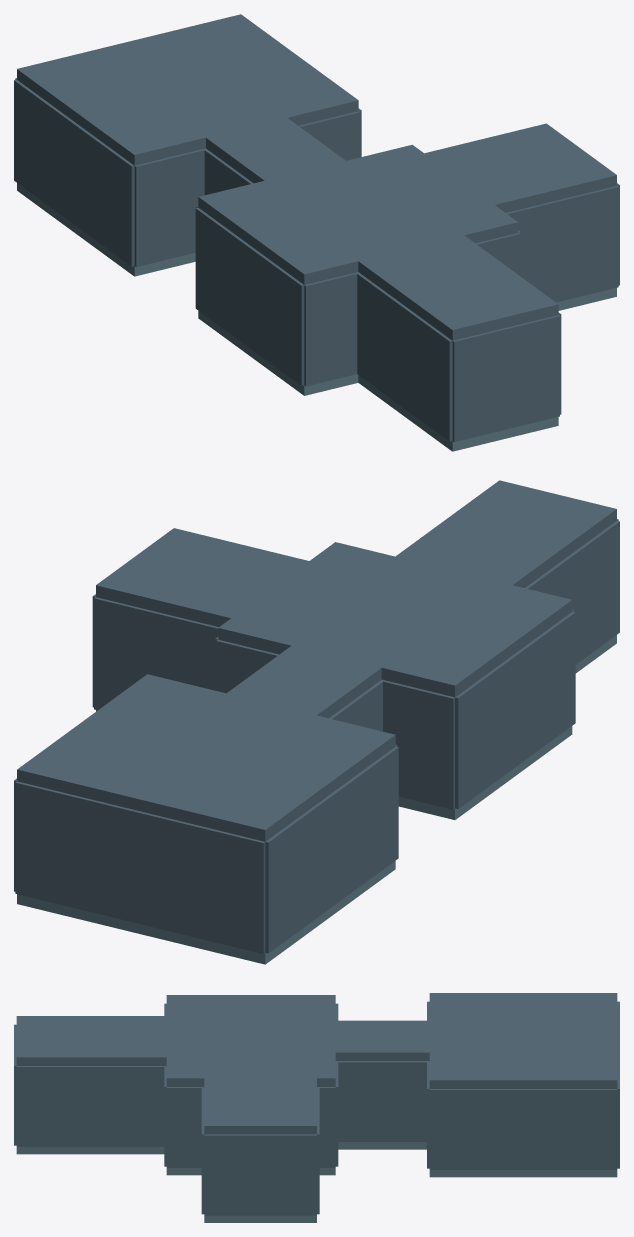
File: old_relay_collision.glb
3 views of the same model, one above another, from view 1: azimuth 30°, elevation 25°; view 2: azimuth 150°, elevation 25°; view 3: azimuth 270°, elevation 25° (orthographic). The views are drawn at different scales.
Visible parts, largest first — view 1: Archive ceiling, Junction ceiling, Archive west wall, Vestibule ceiling, Junction west wall, Vestibule entry wall, Vestibule west wall, Maintenance ceiling, Maintenance near wall, Archive entry shoulder, Junction entry shoulder, Gate passage ceiling (+6 smaller); view 2: Archive ceiling, Junction ceiling, Archive far wall, Archive west wall, Junction west wall, Vestibule ceiling, Maintenance ceiling, Maintenance far wall, Junction gate shoulder, Gate passage ceiling, Vestibule west wall, Archive floor (+3 smaller); view 3: Archive ceiling, Archive east wall, Junction ceiling, Vestibule east wall, Maintenance back wall, Vestibule ceiling, Gate passage east wall, Maintenance ceiling, Gate passage ceiling, Junction east bounds, Archive floor, Junction east return (+9 smaller).
Part boxes in pixels (box(x1,y1,x2,y2)): Archive ceiling: box(17, 14, 358, 165); Junction ceiling: box(198, 144, 518, 284); Archive west wall: box(14, 79, 134, 266); Vestibule ceiling: box(358, 235, 558, 340); Junction west wall: box(195, 207, 304, 385); Vestibule entry wall: box(452, 315, 559, 442); Vestibule west wall: box(357, 273, 452, 441); Maintenance ceiling: box(425, 123, 616, 212); Maintenance near wall: box(506, 186, 618, 302); Archive entry shoulder: box(134, 149, 204, 266); Junction entry shoulder: box(304, 272, 359, 386); Gate passage ceiling: box(206, 118, 345, 183); Archive ceiling: box(17, 674, 395, 841); Junction ceiling: box(218, 542, 572, 697); Archive far wall: box(15, 781, 265, 953); Archive west wall: box(265, 746, 398, 953); Junction west wall: box(455, 611, 575, 808); Vestibule ceiling: box(395, 480, 616, 587); Maintenance ceiling: box(96, 528, 308, 626); Maintenance far wall: box(94, 597, 218, 710); Junction gate shoulder: box(381, 680, 454, 809); Gate passage ceiling: box(226, 645, 381, 718); Vestibule west wall: box(525, 521, 619, 664); Archive floor: box(17, 861, 395, 964); Archive ceiling: box(429, 993, 617, 1088); Archive east wall: box(429, 1089, 617, 1169); Junction ceiling: box(166, 995, 335, 1086); Vestibule east wall: box(16, 1066, 164, 1146); Maintenance back wall: box(204, 1134, 316, 1215); Vestibule ceiling: box(16, 1016, 166, 1065); Gate passage east wall: box(338, 1061, 426, 1141); Maintenance ceiling: box(204, 1078, 316, 1134); Gate passage ceiling: box(335, 1020, 429, 1060); Junction east bounds: box(166, 1087, 204, 1167); Archive floor: box(429, 1170, 617, 1177); Junction east return: box(317, 1087, 335, 1167).
Bounding box in the file's own units: 17.03 × 5.7 × 32.28.
